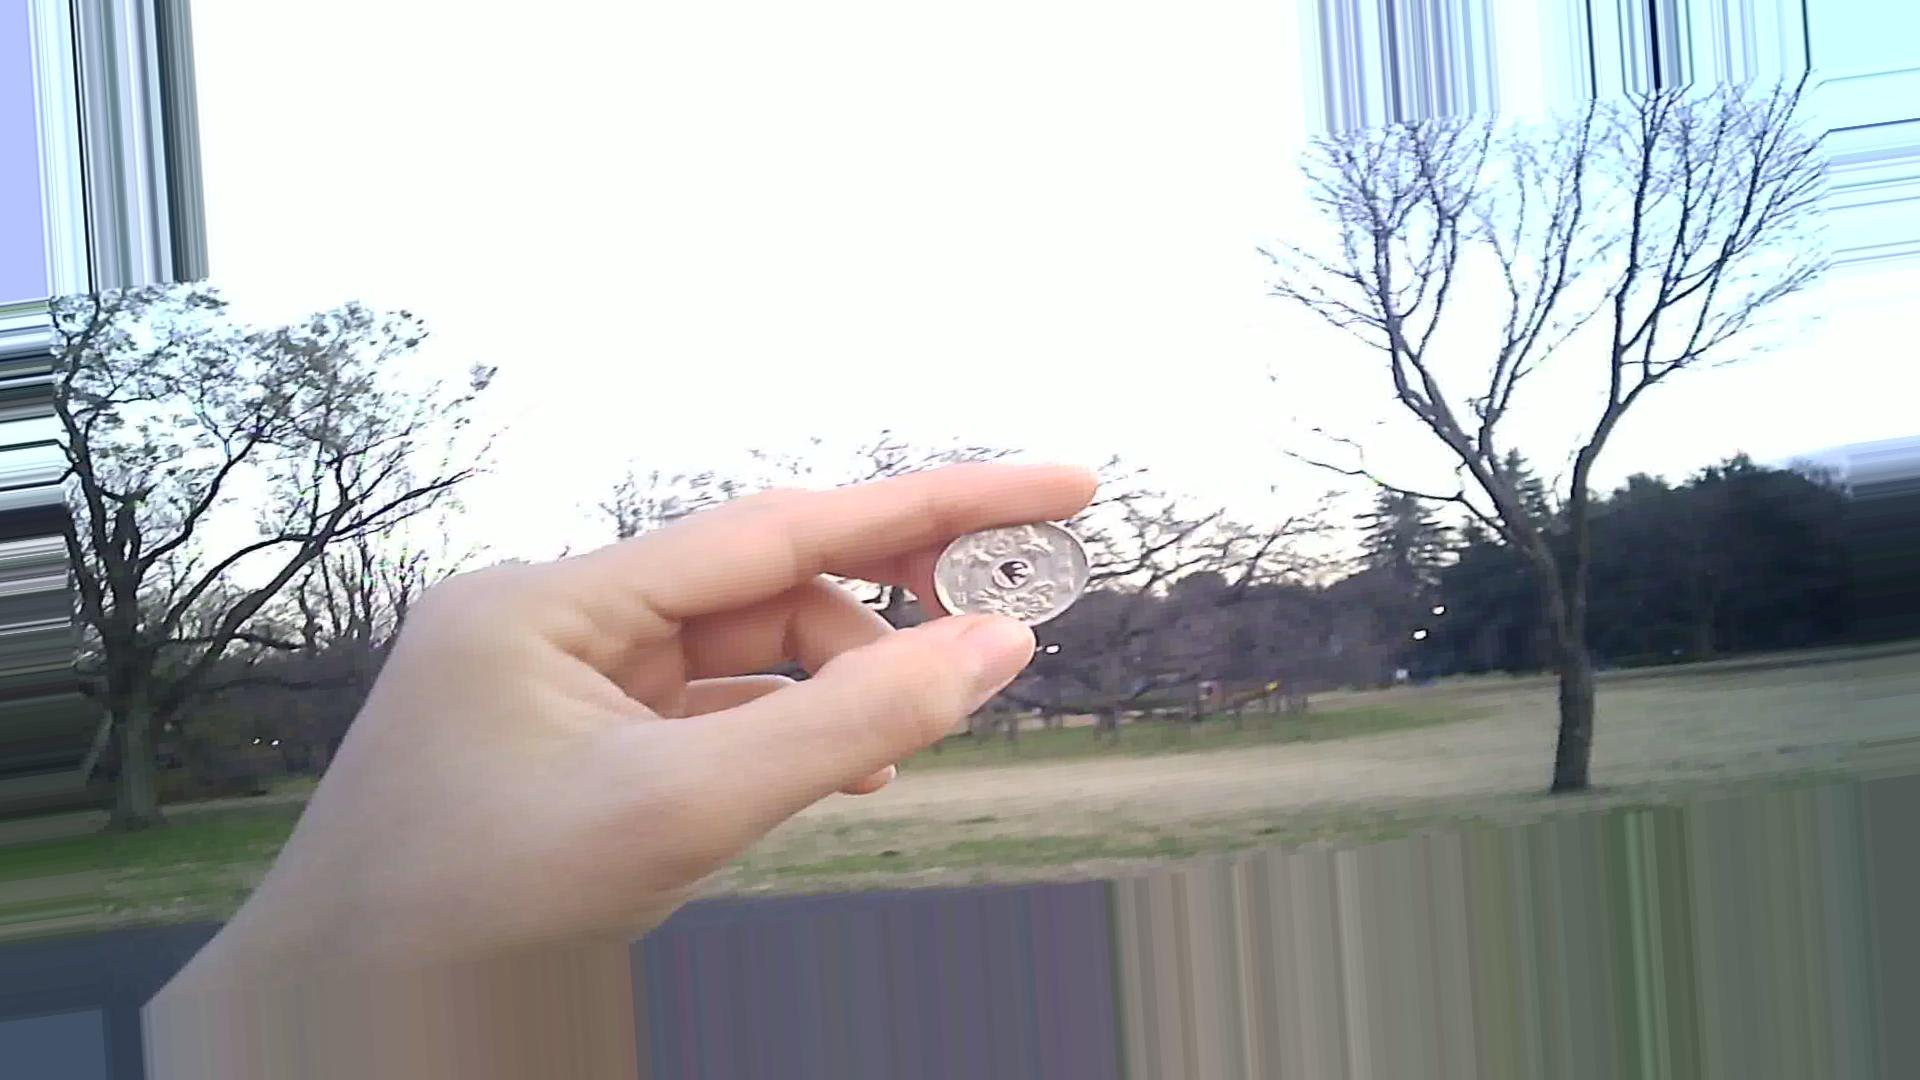50 Yen: (924, 510, 1093, 637)
